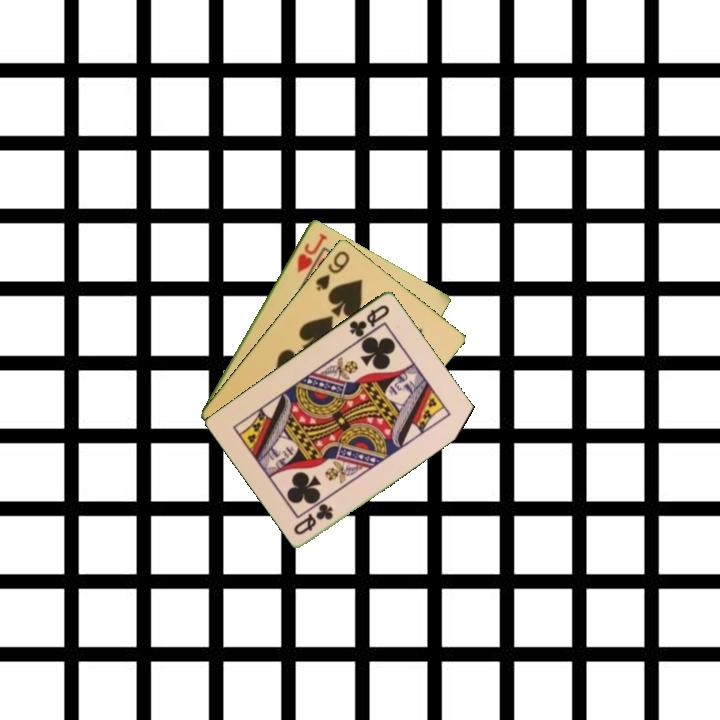9s: (312, 247, 353, 293)
Jh: (293, 229, 330, 275)
Qc: (346, 301, 393, 340), (290, 500, 336, 538)
